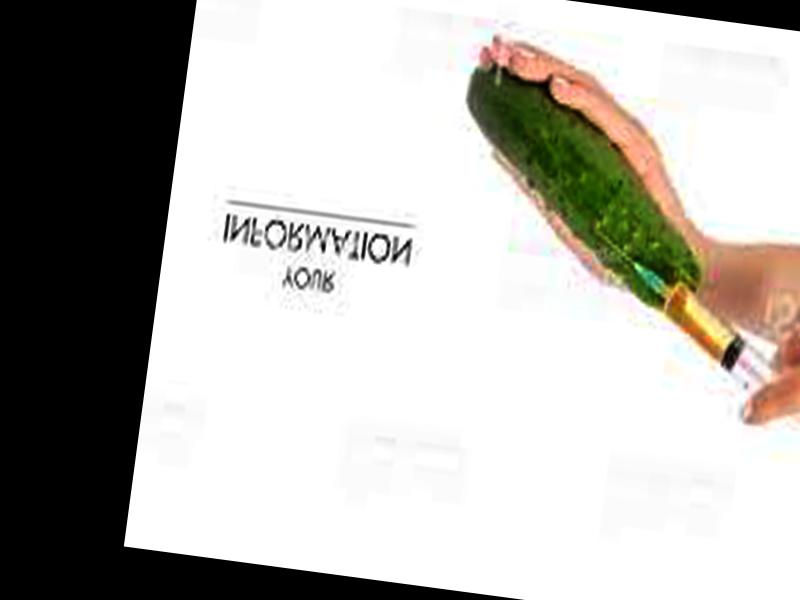Cucumber: (444, 66, 722, 319)
